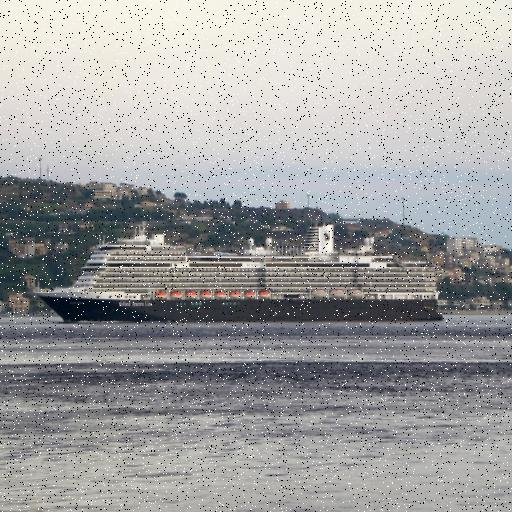cruises: (31, 217, 446, 329)
